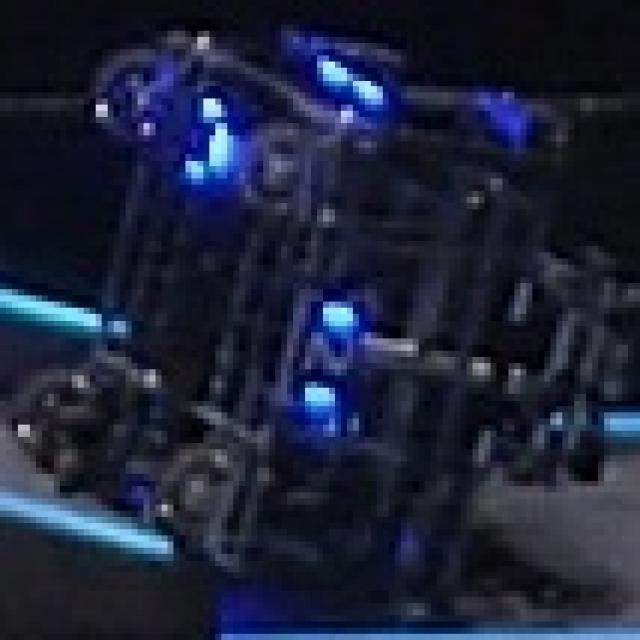B2: (287, 283, 359, 419)
